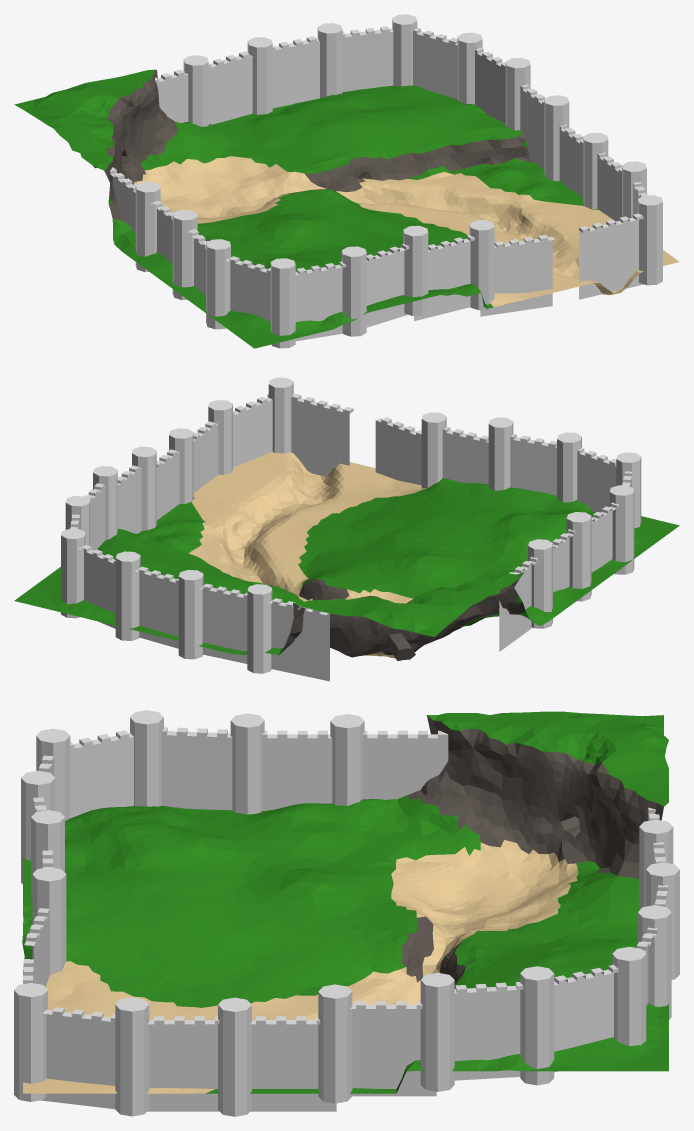
File: project_garden_level_v1.fbx
The picture shows the model from 3 angles, top to bottom: view 1: azimuth 30°, elevation 25°; view 2: azimuth 150°, elevation 25°; view 3: azimuth 270°, elevation 25°; orthographic projection. The views are drawn at different scales.
Visible parts, largest first — view 1: Land, Walls; view 2: Walls, Land; view 3: Land, Walls.
Boxes of the visible parts, <box> form: Land: <box>14,69,679,348</box>; Walls: <box>110,14,662,348</box>; Walls: <box>61,377,641,681</box>; Land: <box>14,451,679,660</box>; Land: <box>22,711,668,1093</box>; Walls: <box>14,710,679,1116</box>.
Bounding box in the file's own units: 815 × 198 × 825.
